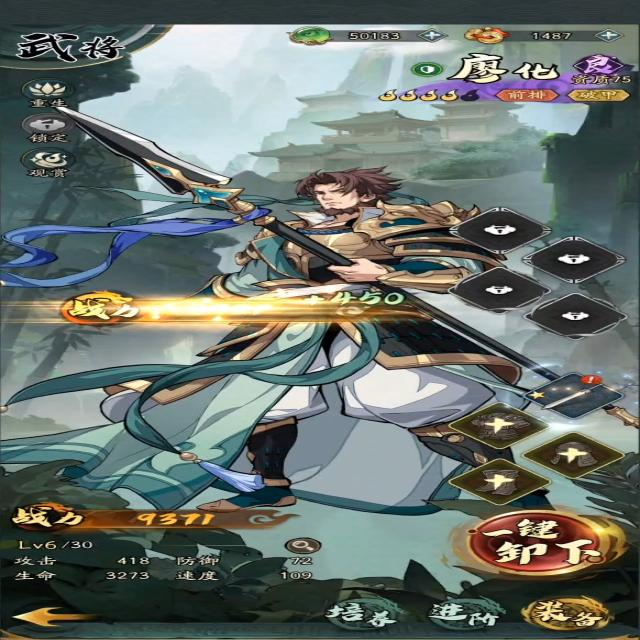hint-reddot: (573, 373, 610, 386)
operation-advanced: (427, 598, 508, 630)
operation-back: (4, 603, 101, 629)
operation-equipment: (519, 596, 615, 631)
operation-oneKeyEquipmentDown: (451, 508, 626, 578)
operation-train: (322, 597, 406, 629)
